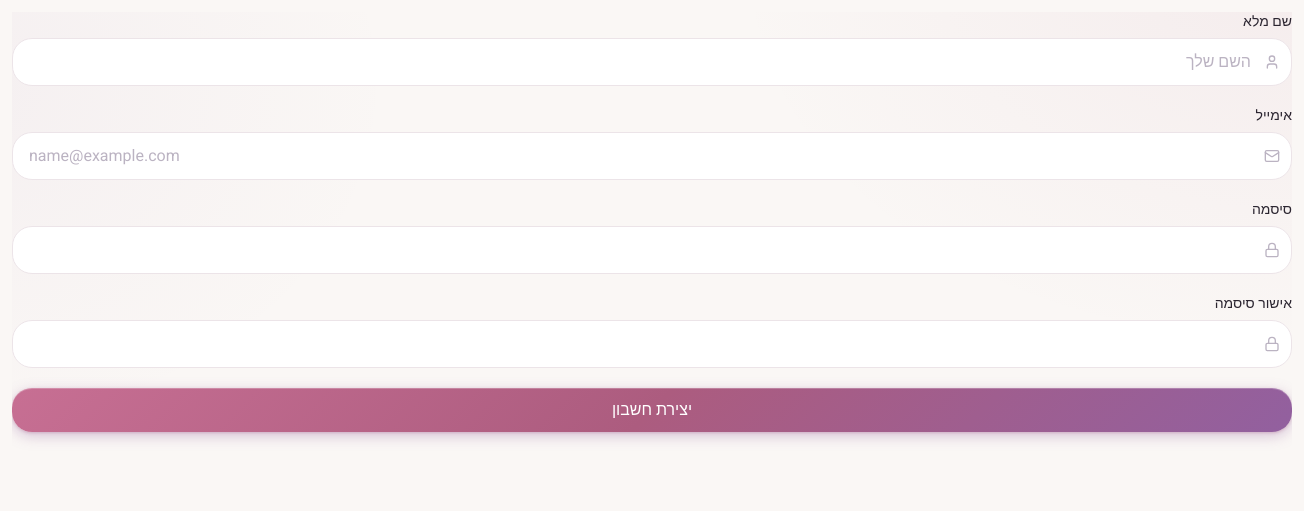
Test: SignupForm › clears only the edited field's error when the user fixes it
Click the button "יצירת חשבון" at (652, 410), box x1=12 y1=388 x2=1292 y2=432
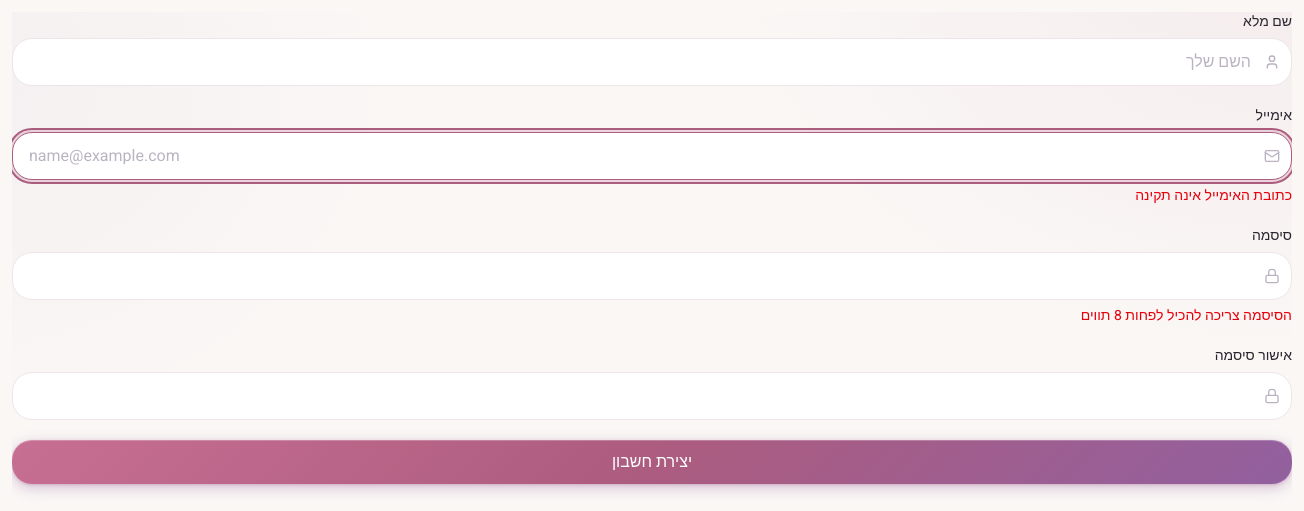
Now the text "כתובת האימייל אינה תקינה" is shown, box x1=1135 y1=185 x2=1292 y2=206
Type "x" into the field labelled "אימייל" at (652, 156), box x1=12 y1=132 x2=1292 y2=180
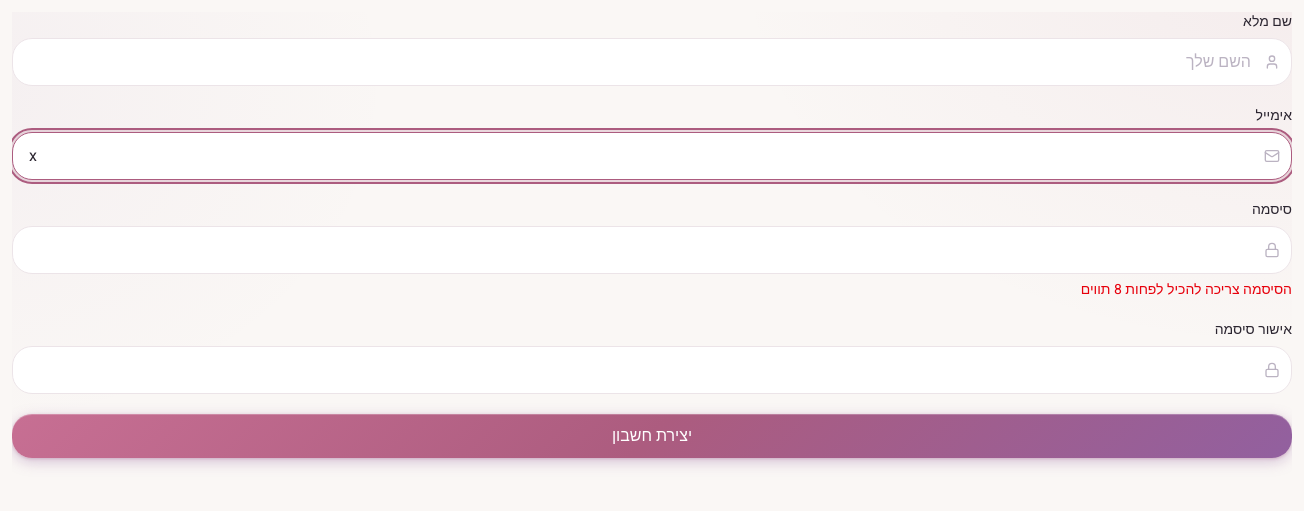
Now the text "הסיסמה צריכה להכיל לפחות 8 תווים" is shown, box x1=1081 y1=279 x2=1292 y2=300
Now the text "כתובת האימייל אינה תקינה" is gone
